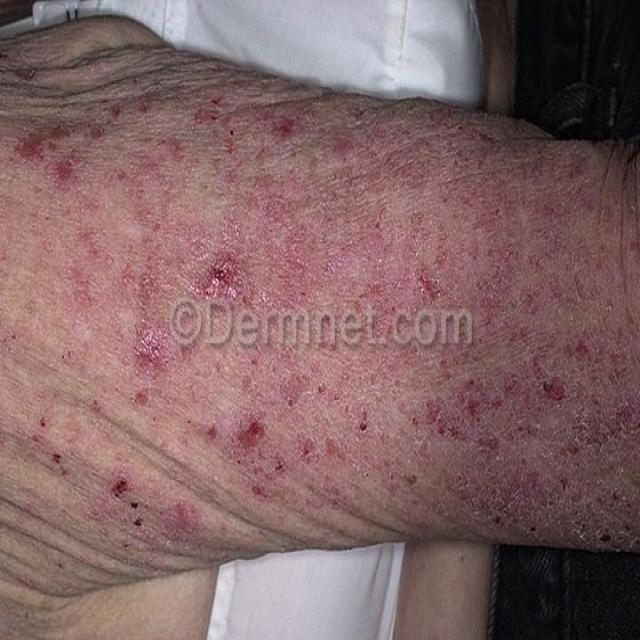Eczema: (0, 81, 640, 552)
